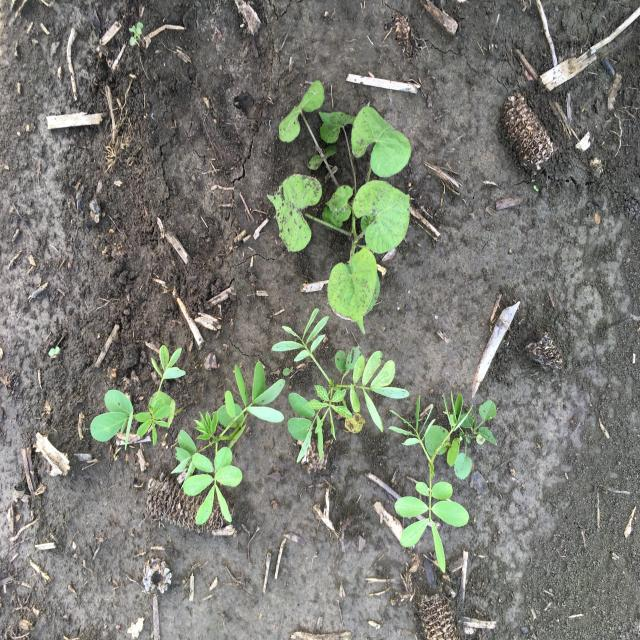MorningGlory: (265, 77, 413, 338)
Sicklepod: (269, 308, 412, 467), (388, 386, 499, 574), (169, 361, 286, 527), (89, 344, 188, 453)
